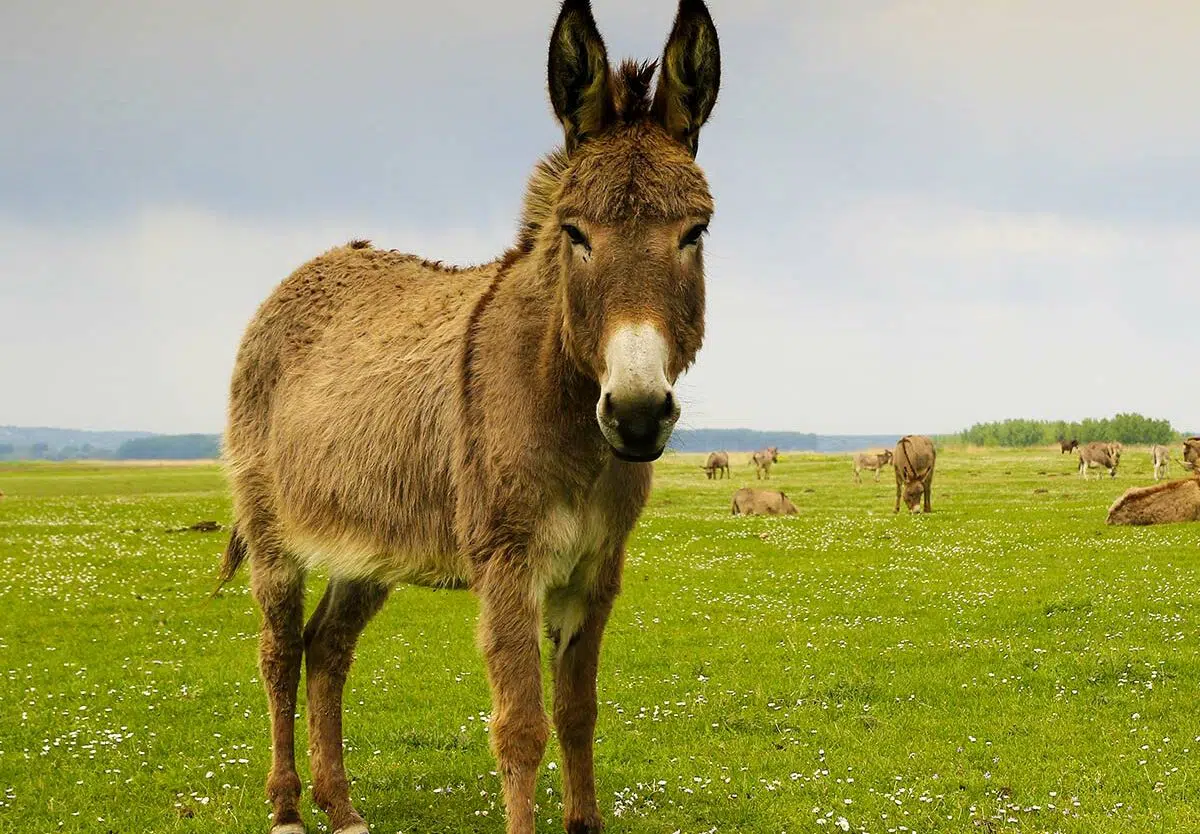donkey: (199, 9, 725, 834)
